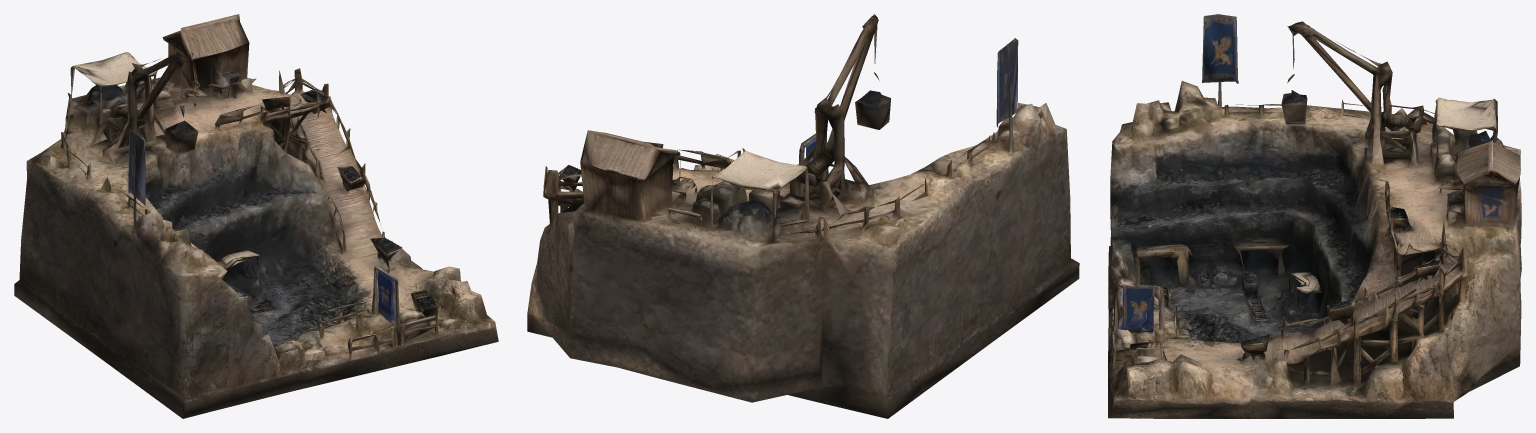
File: coal_mine_1.glb
3 renders of one model, left to right at view 1: azimuth 30°, elevation 25°; view 2: azimuth 150°, elevation 25°; view 3: azimuth 270°, elevation 25°, orthographic. The views are drawn at different scales.
Visible parts, largest first — view 1: tripo_node_6caf2d97-8249-4328-b189-dc6e2879df41; view 2: tripo_node_6caf2d97-8249-4328-b189-dc6e2879df41; view 3: tripo_node_6caf2d97-8249-4328-b189-dc6e2879df41.
Part boxes in pixels (box(x1,y1,x2,y2)): tripo_node_6caf2d97-8249-4328-b189-dc6e2879df41: box(14, 14, 498, 418); tripo_node_6caf2d97-8249-4328-b189-dc6e2879df41: box(527, 14, 1079, 418); tripo_node_6caf2d97-8249-4328-b189-dc6e2879df41: box(1108, 14, 1521, 418).
Size of the model in its own units: 0.8987 by 0.7415 by 0.9793.
1 material, 1 textured.
